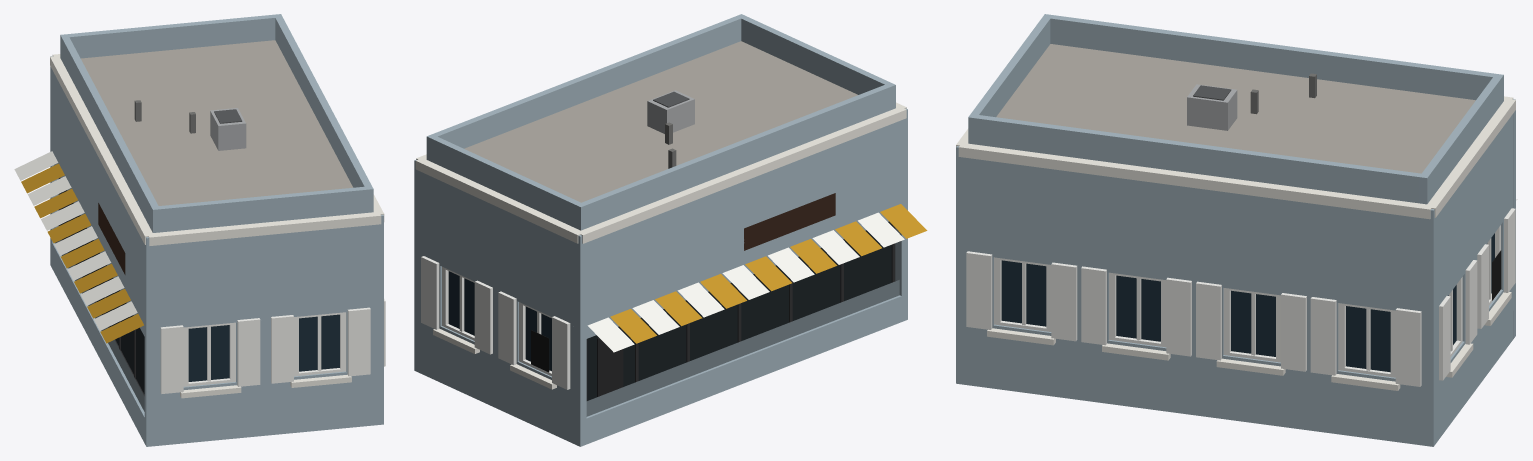
The picture shows the model from 3 angles, left to right: view 1: azimuth 30°, elevation 25°; view 2: azimuth 150°, elevation 25°; view 3: azimuth 270°, elevation 25°; orthographic projection. The views are drawn at different scales.
Visible parts, largest first — view 1: b8819_opaque, b8819_glass; view 2: b8819_opaque, b8819_glass; view 3: b8819_opaque, b8819_glass.
Part boxes in pixels (x1,y1,x2,y2): b8819_opaque: (14,14,385,446); b8819_glass: (60,192,339,394); b8819_opaque: (414,14,927,446); b8819_glass: (448,221,891,400); b8819_opaque: (956,14,1517,446); b8819_glass: (1001,233,1494,372).
Bounding box in the file's own units: 4214 × 2750 × 5243.
